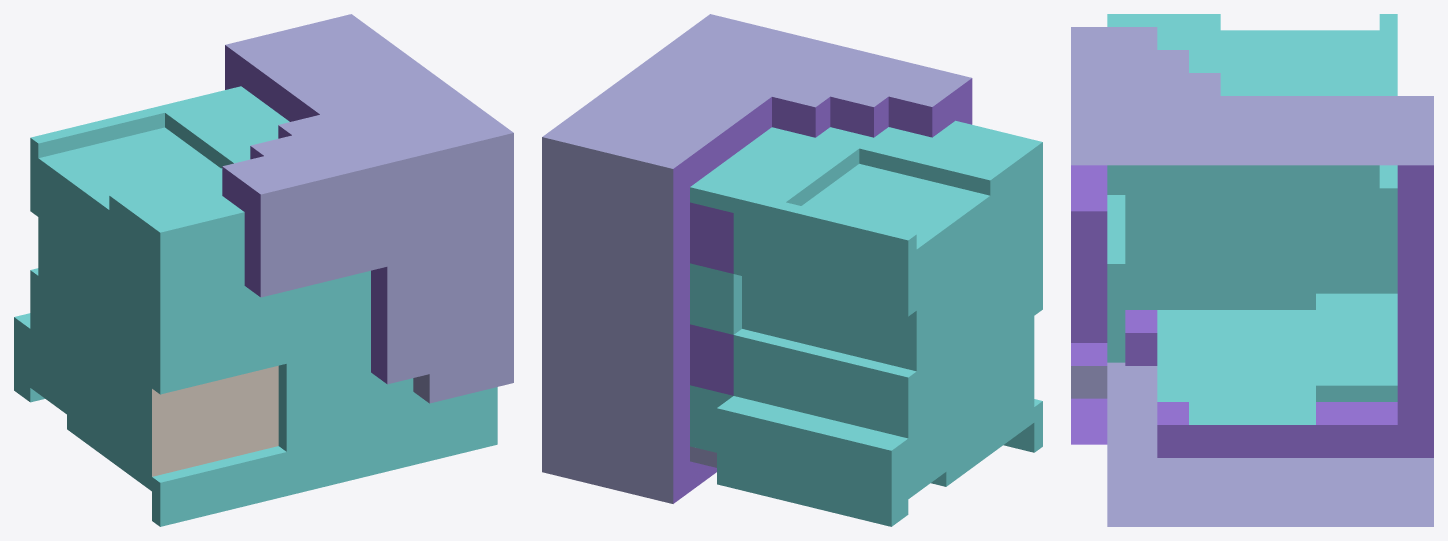
The model's file is Level1Cleaned.fbx.
3 views of the same model, side by side, from view 1: azimuth 30°, elevation 25°; view 2: azimuth 150°, elevation 25°; view 3: azimuth 270°, elevation 25° (orthographic). The views are drawn at different scales.
Parts seen in each view (by area): view 1: Box001.001; view 2: Box001.001; view 3: Box001.001.
Boxes of the visible parts, <box> form: Box001.001: <box>14,14,513,526</box>; Box001.001: <box>542,14,1042,526</box>; Box001.001: <box>1071,14,1433,526</box>.
Size of the model in its own units: 1200 by 1100 by 1000.
